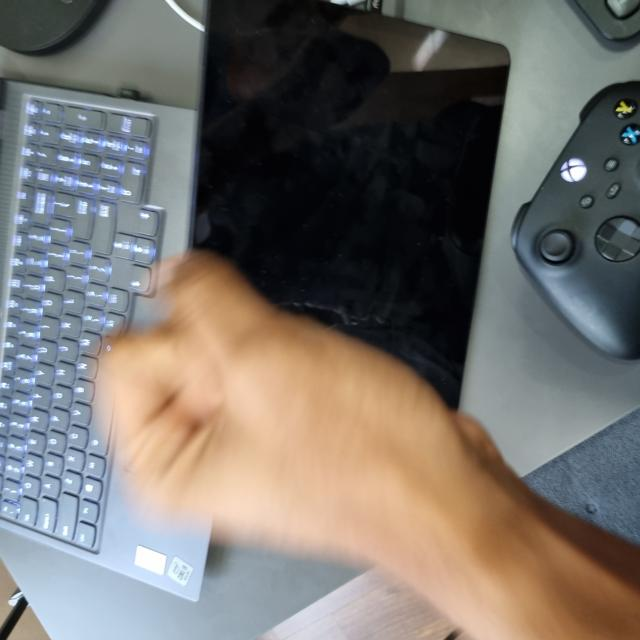Rock: (0, 98, 386, 480)
